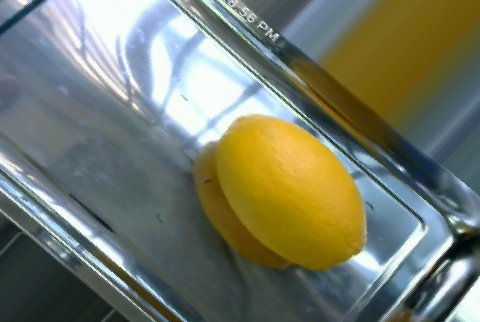Orange: (217, 115, 367, 271)
